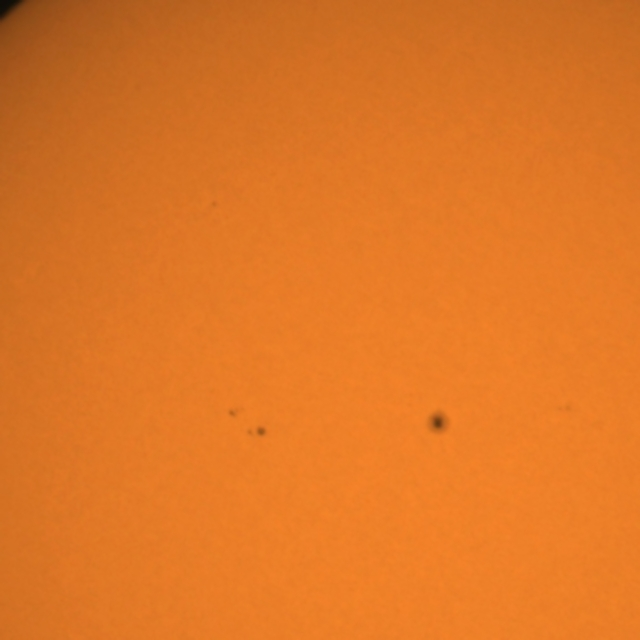sunspot: (225, 406, 268, 440), (424, 408, 453, 438), (244, 424, 268, 440), (554, 400, 575, 416), (226, 406, 240, 420), (209, 198, 220, 210)
